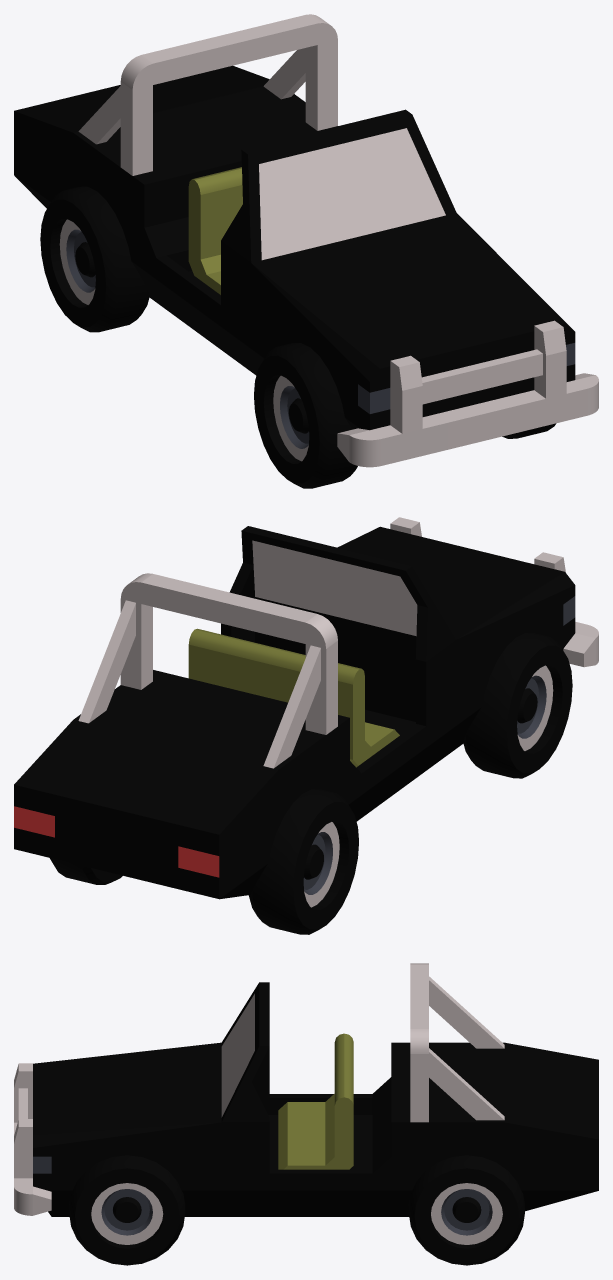
Rendered from CarProt2.fbx.
The picture shows the model from 3 angles, top to bottom: view 1: azimuth 30°, elevation 25°; view 2: azimuth 150°, elevation 25°; view 3: azimuth 270°, elevation 25°; orthographic projection. The views are drawn at different scales.
Visible parts, largest first — view 1: body_frontLarge, body_topWindshield, wheel_standard (×2), body_backStandard, bumper_large, detail_rollbar, body_suv, detail_seat; view 2: body_backStandard, wheel_standard (×3), body_suv, body_frontLarge, detail_rollbar, body_topWindshield, detail_seat (×2), bumper_large; view 3: body_frontLarge, body_backStandard, wheel_standard (×2), body_suv, detail_rollbar, detail_seat (×2), body_topWindshield, bumper_large.
Boxes of the visible parts, x1,y1,x2,y2 form: body_frontLarge: (251, 213, 575, 430); body_topWindshield: (221, 109, 456, 262); wheel_standard (×2): (40, 186, 357, 488); body_backStandard: (14, 65, 316, 299); bumper_large: (337, 320, 598, 467); detail_rollbar: (78, 14, 337, 175); body_suv: (132, 126, 337, 375); detail_seat: (188, 167, 242, 294); body_backStandard: (14, 681, 337, 899); wheel_standard (×3): (50, 633, 572, 934); body_suv: (153, 597, 456, 821); body_frontLarge: (337, 526, 575, 762); detail_rollbar: (78, 573, 337, 768); body_topWindshield: (229, 526, 456, 661); detail_seat (×2): (188, 628, 399, 767); bumper_large: (390, 517, 598, 667); body_frontLarge: (33, 1042, 221, 1216); body_backStandard: (410, 1042, 598, 1211); wheel_standard (×2): (69, 1155, 524, 1265); body_suv: (221, 1042, 410, 1216); detail_rollbar: (410, 963, 504, 1122); detail_seat (×2): (278, 1033, 353, 1169); body_topWindshield: (221, 982, 269, 1122); bumper_large: (14, 1063, 51, 1215).
Size of the model in its own units: 12.16 by 13.08 by 31.
